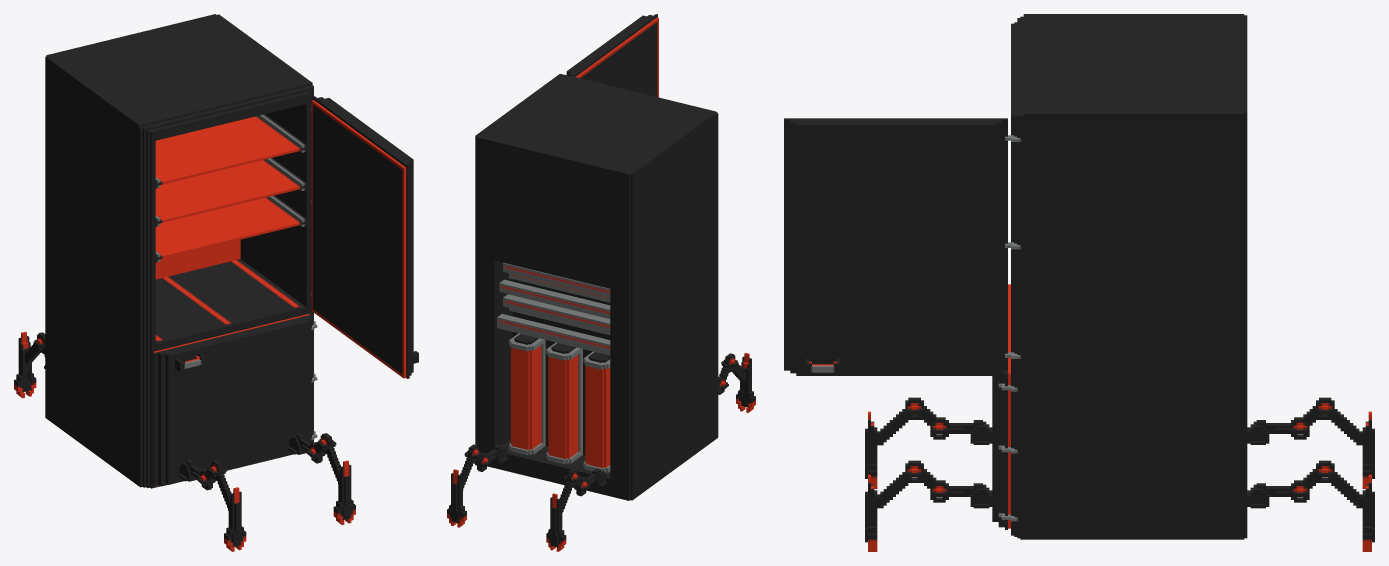
File: FridgeEasy.fbx
3 renders of one model, left to right at view 1: azimuth 30°, elevation 25°; view 2: azimuth 150°, elevation 25°; view 3: azimuth 270°, elevation 25°, orthographic. The views are drawn at different scales.
Parts seen in each view (by area): view 1: FridgeHard; view 2: FridgeHard; view 3: FridgeHard.
Boxes of the visible parts, box(x1,y1,x2,y2) form: FridgeHard: box(14, 14, 418, 551); FridgeHard: box(447, 14, 755, 551); FridgeHard: box(784, 14, 1374, 551).
Bounding box in the file's own units: 82 × 161 × 190.
